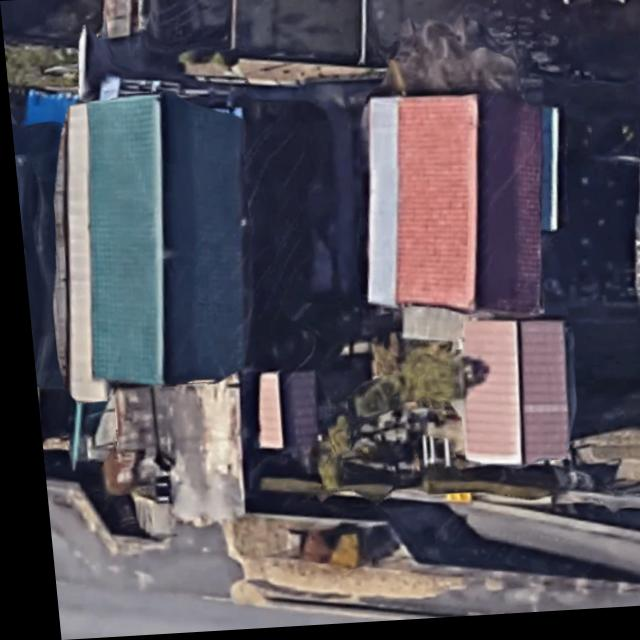Batiment: (85, 94, 244, 385), (362, 99, 548, 320), (452, 323, 561, 470)
